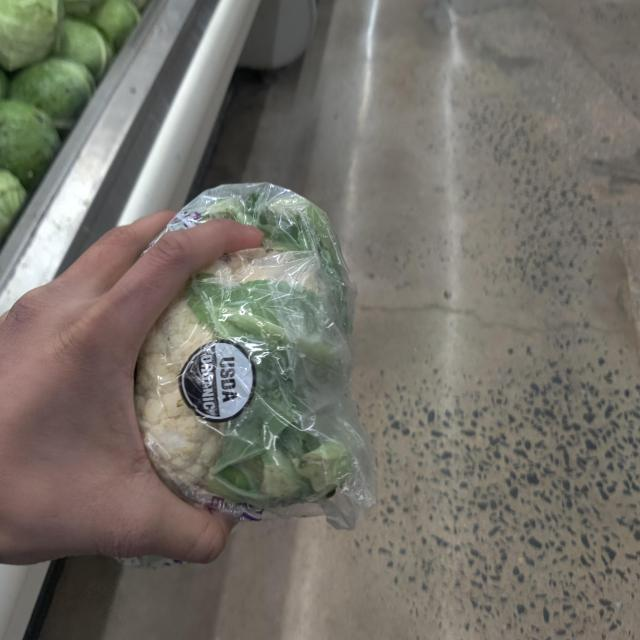Cauliflower: (105, 177, 366, 540)
